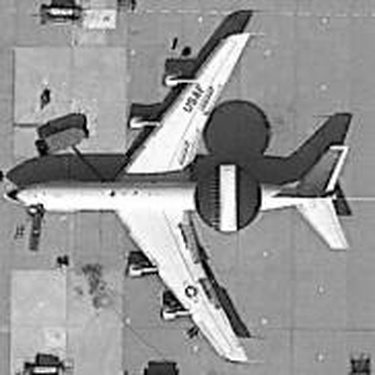airplane: (1, 28, 358, 365)
